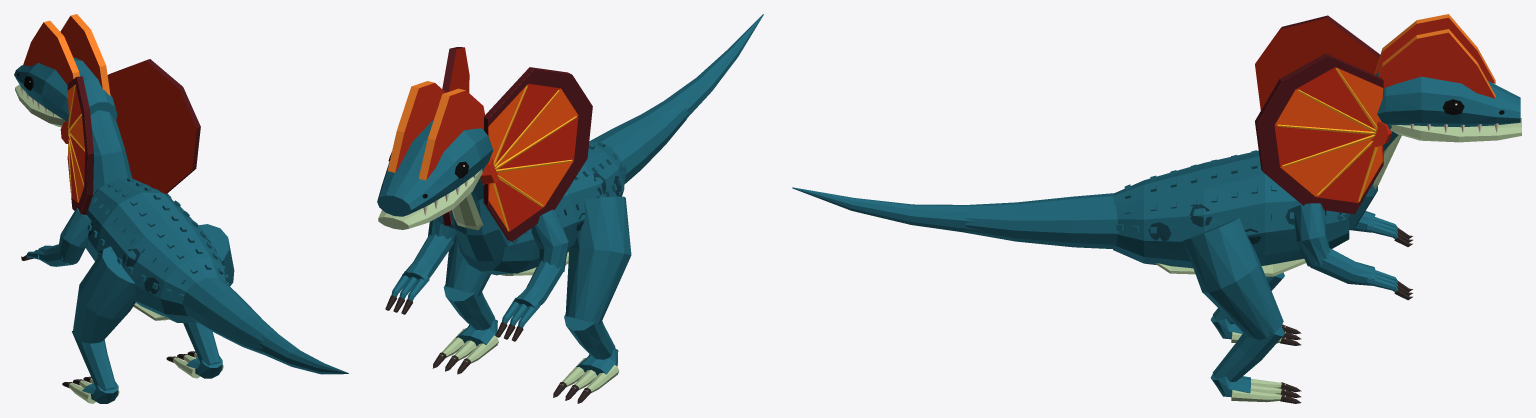
The model's file is Dilophosaurus-Import3D-Motor6D.fbx.
The picture shows the model from 3 angles, left to right: view 1: azimuth 30°, elevation 25°; view 2: azimuth 150°, elevation 25°; view 3: azimuth 270°, elevation 25°; orthographic projection. The views are drawn at different scales.
Visible parts, largest first — view 1: Import3D_Core, Import3D_FrillR, Import3D_Head, Import3D_LegBL, Import3D_Tail, Import3D_FrillL, Import3D_Neck, Import3D_Tail1, Import3D_ArmL, Import3D_KneeBL, Import3D_KneeBR, Import3D_FootBR (+4 smaller); view 2: Import3D_FrillL, Import3D_Head, Import3D_LegBL, Import3D_Core, Import3D_Tail, Import3D_Neck, Import3D_ForearmR, Import3D_ForearmL, Import3D_Tail1, Import3D_FootBL, Import3D_FootBR, Import3D_Jaw (+6 smaller); view 3: Import3D_FrillR, Import3D_Core, Import3D_Head, Import3D_LegBR, Import3D_Tail, Import3D_FrillL, Import3D_Tail1, Import3D_ForearmR, Import3D_Jaw, Import3D_ArmR, Import3D_KneeBR, Import3D_FootBR (+3 smaller).
Boxes of the visible parts, x1,y1,x2,y2 form: Import3D_Core: [85, 178, 229, 323]; Import3D_FrillR: [107, 59, 200, 193]; Import3D_Head: [14, 14, 117, 121]; Import3D_LegBL: [73, 246, 135, 343]; Import3D_Tail: [182, 277, 277, 354]; Import3D_FrillL: [60, 76, 93, 214]; Import3D_Neck: [90, 110, 131, 194]; Import3D_Tail1: [255, 332, 348, 374]; Import3D_ArmL: [58, 208, 91, 264]; Import3D_KneeBL: [72, 330, 116, 390]; Import3D_KneeBR: [183, 323, 220, 365]; Import3D_FootBR: [166, 351, 223, 378]; Import3D_FrillL: [480, 67, 592, 241]; Import3D_Head: [377, 81, 493, 216]; Import3D_LegBL: [565, 196, 631, 324]; Import3D_Core: [457, 141, 626, 275]; Import3D_Tail: [589, 98, 688, 184]; Import3D_Neck: [450, 165, 517, 261]; Import3D_ForearmR: [385, 234, 453, 314]; Import3D_ForearmL: [496, 260, 564, 341]; Import3D_Tail1: [666, 14, 763, 122]; Import3D_FootBL: [553, 349, 619, 403]; Import3D_FootBR: [432, 319, 498, 374]; Import3D_Jaw: [378, 169, 482, 229]; Import3D_FrillR: [1255, 53, 1391, 214]; Import3D_Core: [1113, 150, 1349, 276]; Import3D_Head: [1374, 14, 1520, 132]; Import3D_LegBR: [1183, 218, 1283, 339]; Import3D_Tail: [965, 193, 1118, 248]; Import3D_FrillL: [1255, 15, 1380, 110]; Import3D_Tail1: [792, 187, 979, 234]; Import3D_ForearmR: [1310, 248, 1412, 300]; Import3D_Jaw: [1390, 118, 1521, 142]; Import3D_ArmR: [1293, 203, 1329, 266]; Import3D_KneeBR: [1212, 326, 1284, 381]; Import3D_FootBR: [1210, 374, 1301, 403].
Bounding box in the file's own units: 171 × 334 × 639.
1 material, 1 textured.
